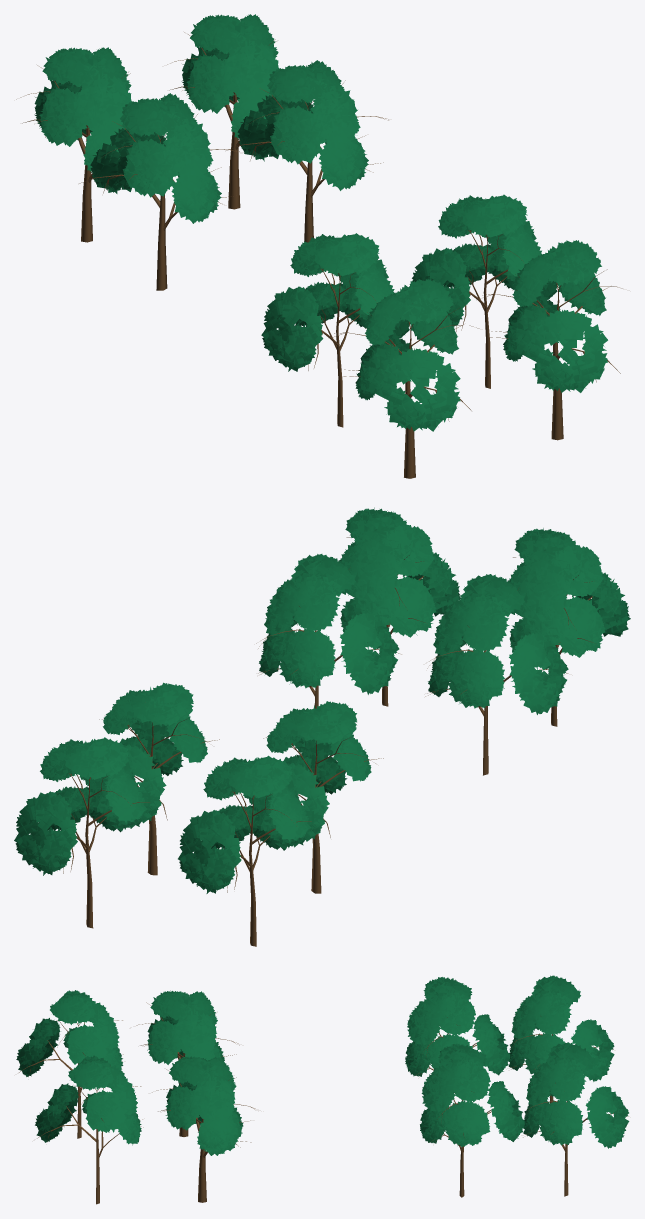
The model's file is Cluster_Trees_FIN.glb.
3 views of the same model, one above another, from view 1: azimuth 30°, elevation 25°; view 2: azimuth 150°, elevation 25°; view 3: azimuth 270°, elevation 25° (orthographic). The views are drawn at different scales.
Visible parts, largest first — view 1: Leaves_1, Leaves_1.001, Leaves_1.006, Leaves_1.004, Leaves_1.002, Leaves_1.005, Leaves_1.003, Trunk_0.001, Trunk_0.004, Trunk_0.006, Trunk_0, Trunk_0.002 (+2 smaller); view 2: Leaves_1, Leaves_1.006, Leaves_1.001, Leaves_1.005, Leaves_1.003, Leaves_1.002, Leaves_1.004, Trunk_0.005, Trunk_0.003, Trunk_0.002, Trunk_0.004; view 3: Leaves_1, Leaves_1.002, Leaves_1.003, Leaves_1.004, Leaves_1.005, Leaves_1.001, Leaves_1.006, Trunk_0.001, Trunk_0.
Part boxes in pixels (x1,y1,x2,y2): Leaves_1: [261, 194, 542, 371]; Leaves_1.001: [503, 240, 607, 392]; Leaves_1.006: [355, 279, 460, 431]; Leaves_1.004: [90, 93, 221, 223]; Leaves_1.002: [237, 60, 368, 190]; Leaves_1.005: [34, 47, 131, 173]; Leaves_1.003: [181, 14, 278, 138]; Trunk_0.001: [332, 269, 622, 478]; Trunk_0.004: [79, 114, 239, 290]; Trunk_0.006: [308, 268, 375, 427]; Trunk_0: [456, 230, 522, 388]; Trunk_0.002: [226, 80, 388, 242]; Leaves_1: [259, 554, 568, 714]; Leaves_1.006: [507, 528, 630, 657]; Leaves_1.001: [338, 507, 460, 637]; Leaves_1.005: [178, 755, 310, 893]; Leaves_1.003: [14, 737, 147, 875]; Leaves_1.002: [103, 682, 207, 828]; Leaves_1.004: [266, 701, 371, 847]; Trunk_0.005: [210, 791, 311, 946]; Trunk_0.003: [63, 773, 149, 928]; Trunk_0.002: [99, 719, 219, 875]; Trunk_0.004: [263, 737, 383, 893]; Leaves_1: [147, 990, 243, 1155]; Leaves_1.002: [420, 1043, 524, 1146]; Leaves_1.003: [523, 1042, 629, 1148]; Leaves_1.004: [405, 977, 510, 1076]; Leaves_1.005: [508, 975, 614, 1081]; Leaves_1.001: [35, 1055, 141, 1145]; Leaves_1.006: [16, 990, 123, 1076]; Trunk_0.001: [19, 1020, 143, 1204]; Trunk_0: [152, 1069, 255, 1202].
Size of what is drawn, in the model's own units: 56.68 by 38.79 by 136.
